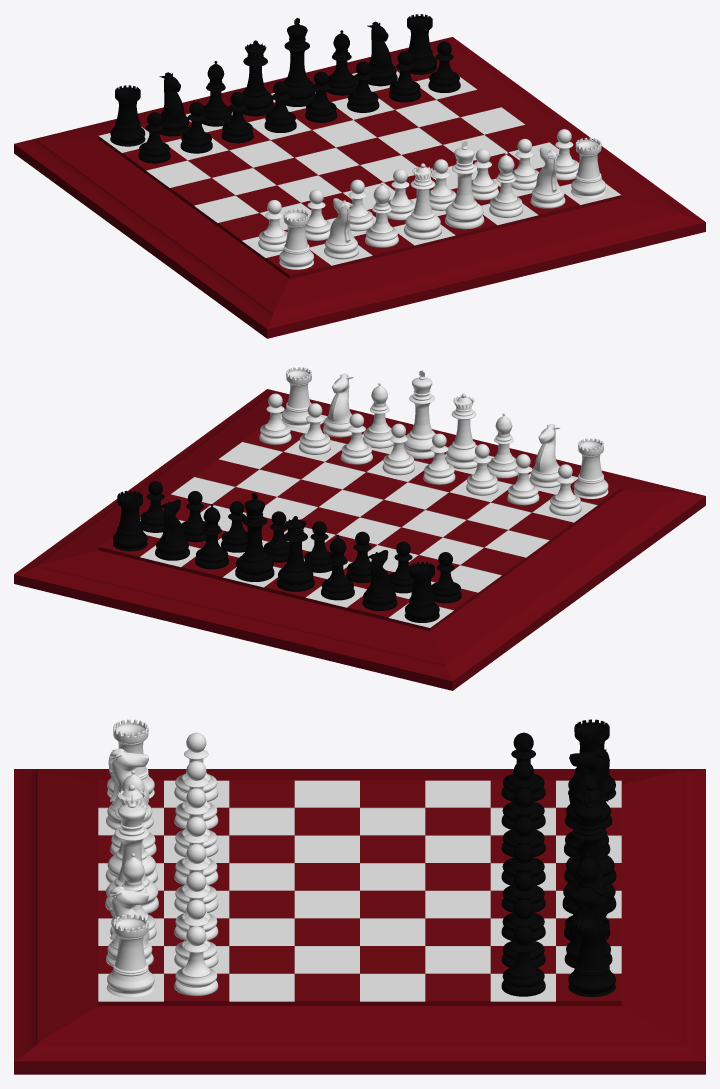
Rendered from chess.glb.
3 renders of one model, top to bottom at view 1: azimuth 30°, elevation 25°; view 2: azimuth 150°, elevation 25°; view 3: azimuth 270°, elevation 25°, orthographic. The views are drawn at different scales.
Parts seen in each view (by area): view 1: Chess Board, Light King, Dark King, Light Queen, Dark Queen, Light Rock 2, Dark Rock 1, Light Rock 1, Dark Rock 2, Light Knight 1, Light Knight 2, Dark Knight 1 (+21 smaller); view 2: Chess Board, Dark King, Light King, Dark Queen, Light Queen, Dark Rock 1, Dark Rock 2, Light Rock 1, Light Rock 2, Dark Knight 2, Dark Knight 1, Light Knight 1 (+21 smaller); view 3: Chess Board, Light Rock 2, Dark Rock 2, Dark King, Light King, Dark Pawn 8, Light Pawn 8, Light Knight 1, Dark Knight 1, Dark Knight 2, Light Knight 2, Light Rock 1 (+21 smaller).
Boxes of the visible parts, x1,y1,x2,y2 form: Chess Board: [14, 37, 705, 338]; Light King: [445, 140, 484, 229]; Dark King: [283, 17, 315, 106]; Light Queen: [404, 163, 441, 239]; Dark Queen: [242, 40, 274, 116]; Light Rock 2: [571, 137, 606, 198]; Dark Rock 1: [110, 85, 145, 146]; Light Rock 1: [279, 209, 313, 269]; Dark Rock 2: [407, 14, 437, 74]; Light Knight 1: [324, 198, 358, 259]; Light Knight 2: [530, 147, 565, 208]; Dark Knight 1: [159, 72, 190, 136]; Chess Board: [14, 389, 705, 690]; Dark King: [235, 493, 274, 581]; Light King: [404, 370, 435, 459]; Dark Queen: [276, 516, 314, 591]; Light Queen: [445, 393, 477, 469]; Dark Rock 1: [404, 562, 439, 622]; Dark Rock 2: [113, 490, 147, 551]; Light Rock 1: [573, 438, 608, 498]; Light Rock 2: [281, 367, 311, 428]; Dark Knight 2: [155, 499, 189, 560]; Dark Knight 1: [362, 550, 397, 610]; Light Knight 1: [529, 423, 560, 488]; Chess Board: [14, 769, 705, 1074]; Light Rock 2: [106, 914, 154, 997]; Dark Rock 2: [568, 914, 615, 997]; Dark King: [562, 794, 616, 914]; Light King: [105, 794, 158, 913]; Dark Pawn 8: [501, 926, 545, 996]; Light Pawn 8: [174, 926, 218, 996]; Light Knight 1: [106, 748, 153, 830]; Dark Knight 1: [564, 748, 612, 829]; Dark Knight 2: [564, 886, 612, 967]; Light Knight 2: [106, 886, 153, 966]; Light Rock 1: [107, 719, 154, 798].
Size of the model in its own units: 18 by 4.25 by 18.
